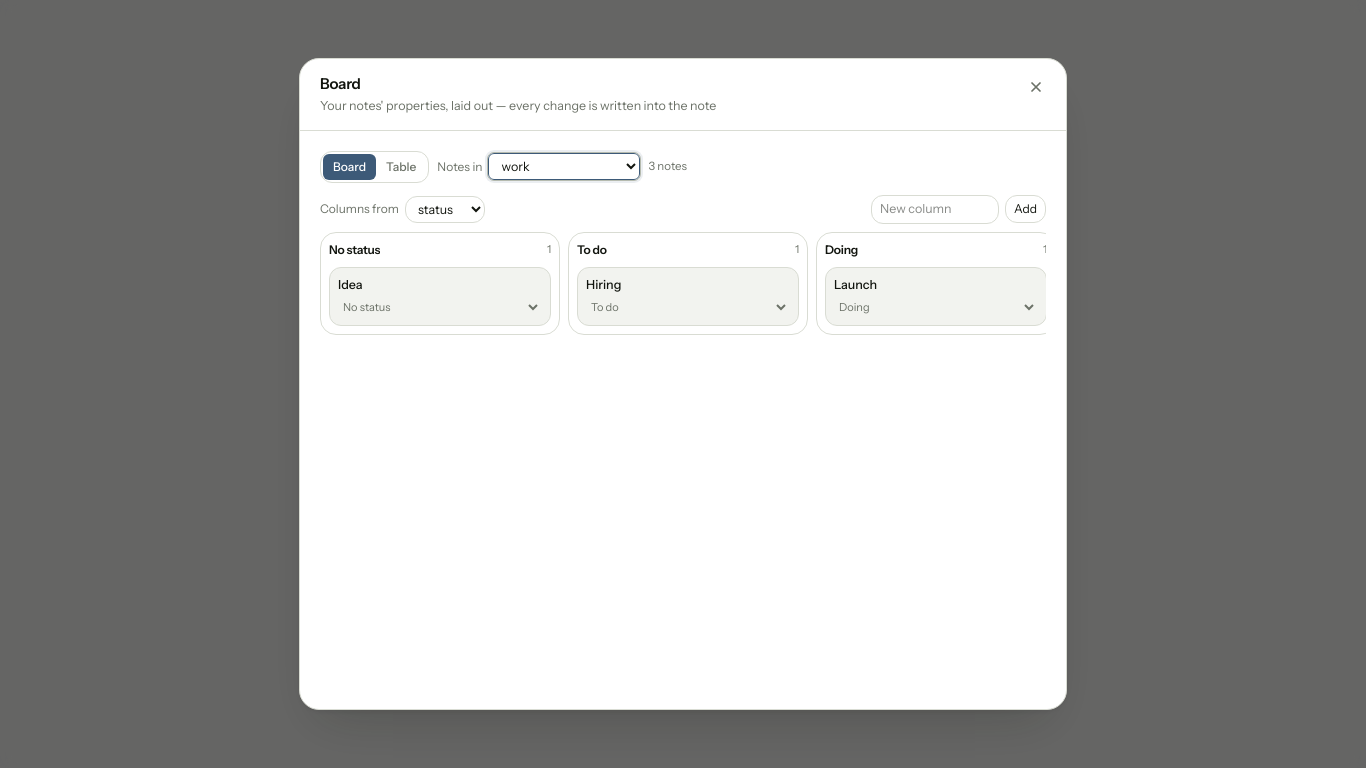
Test: FolderViewsDialog — board › switches folder
Expected: the button "Launch" is shown, [834, 276, 1038, 294]
Select "home" in the dropdown named "Folder" at (564, 167), box [488, 153, 640, 180]
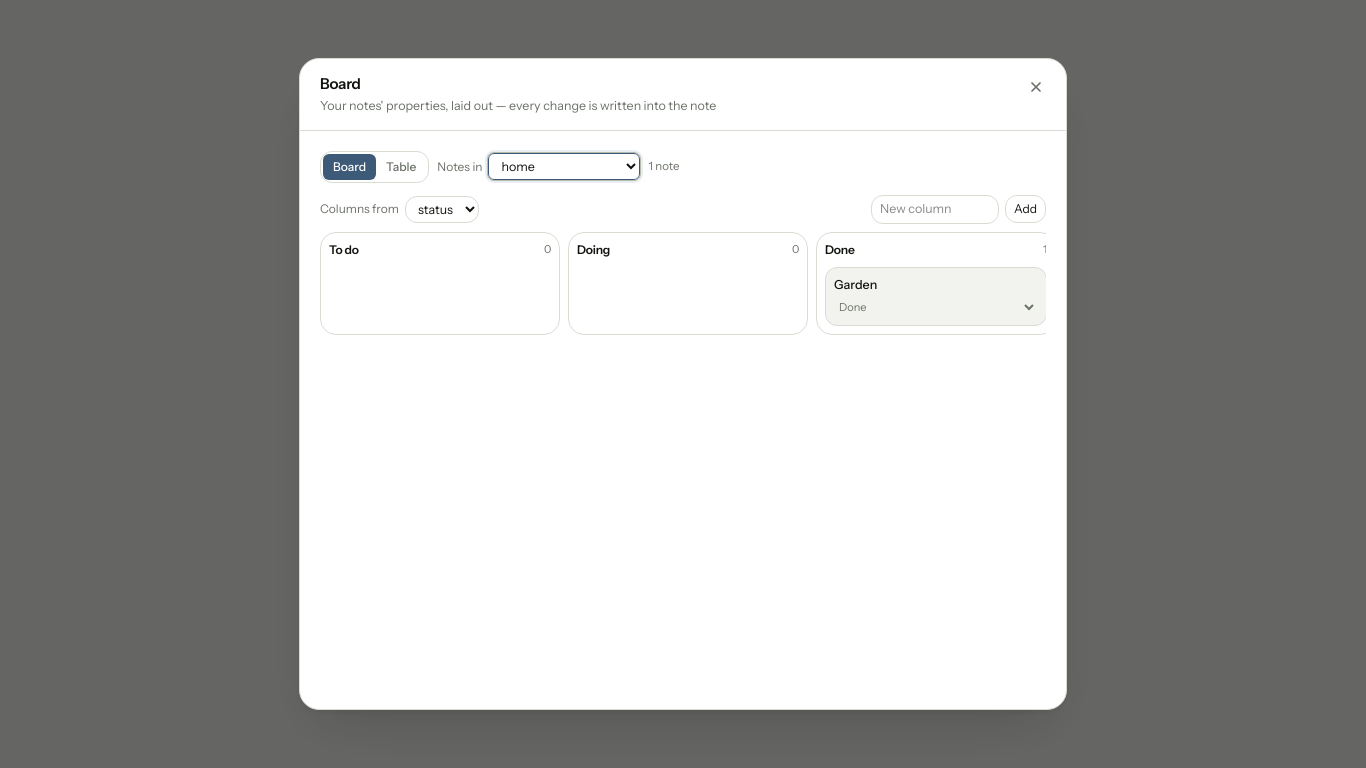
Now the button "Garden" is shown, box [834, 276, 1038, 294]
